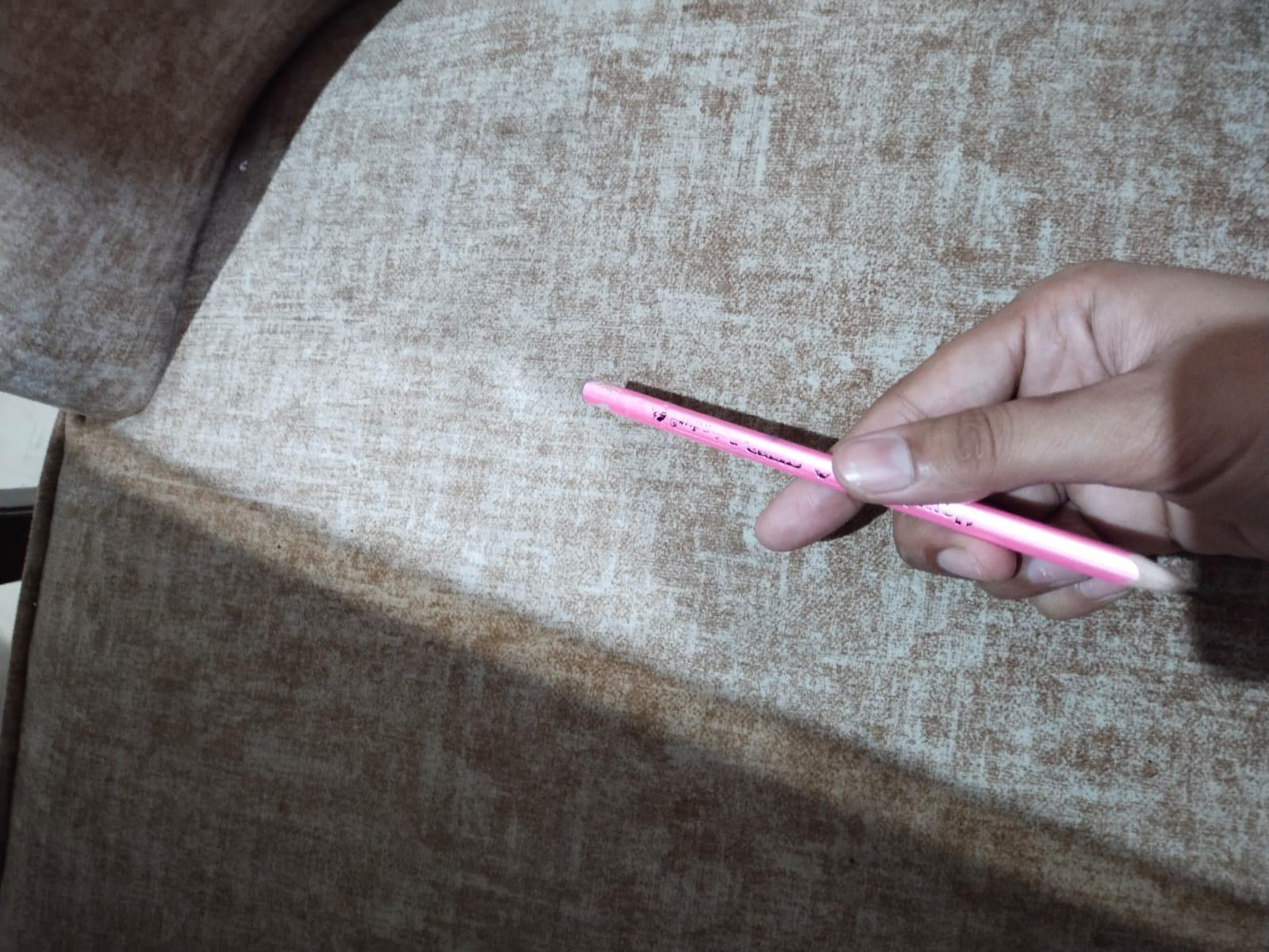pencil: (583, 381, 845, 492), (891, 504, 1179, 590)
